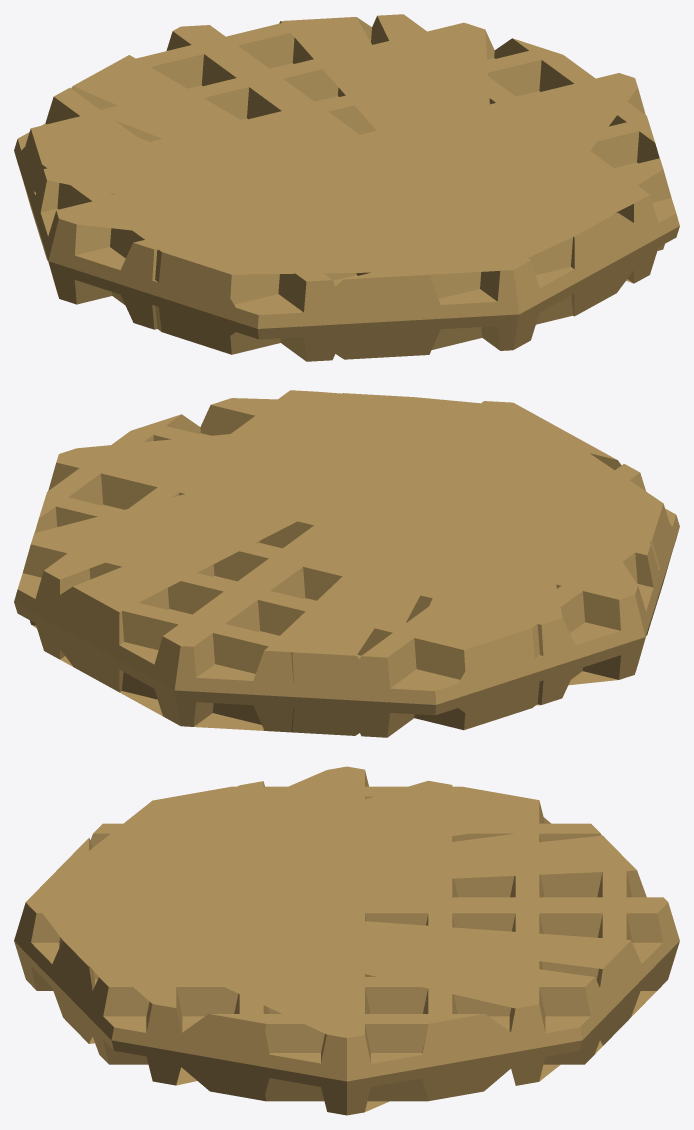
Rendered from tupper 02.fbx.
3 views of the same model, one above another, from view 1: azimuth 30°, elevation 25°; view 2: azimuth 150°, elevation 25°; view 3: azimuth 270°, elevation 25° (orthographic). The views are drawn at different scales.
Visible parts, largest first — view 1: waffle 02; view 2: waffle 02; view 3: waffle 02.
Boxes of the visible parts, x1,y1,x2,y2 form: waffle 02: (14, 14, 679, 361); waffle 02: (14, 390, 679, 737); waffle 02: (14, 766, 679, 1115).
Bounding box in the file's own units: 15.59 × 15.59 × 2.
